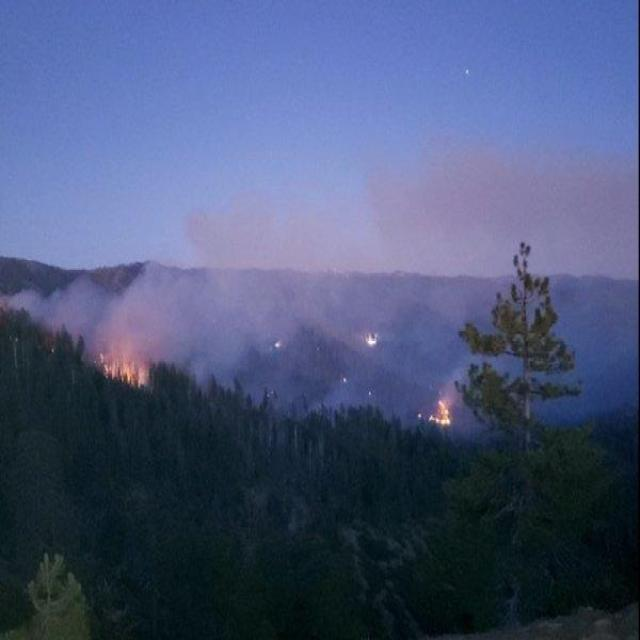Fire: (99, 350, 152, 393), (427, 394, 457, 429)
Smoke: (332, 116, 626, 326), (32, 188, 306, 352)
